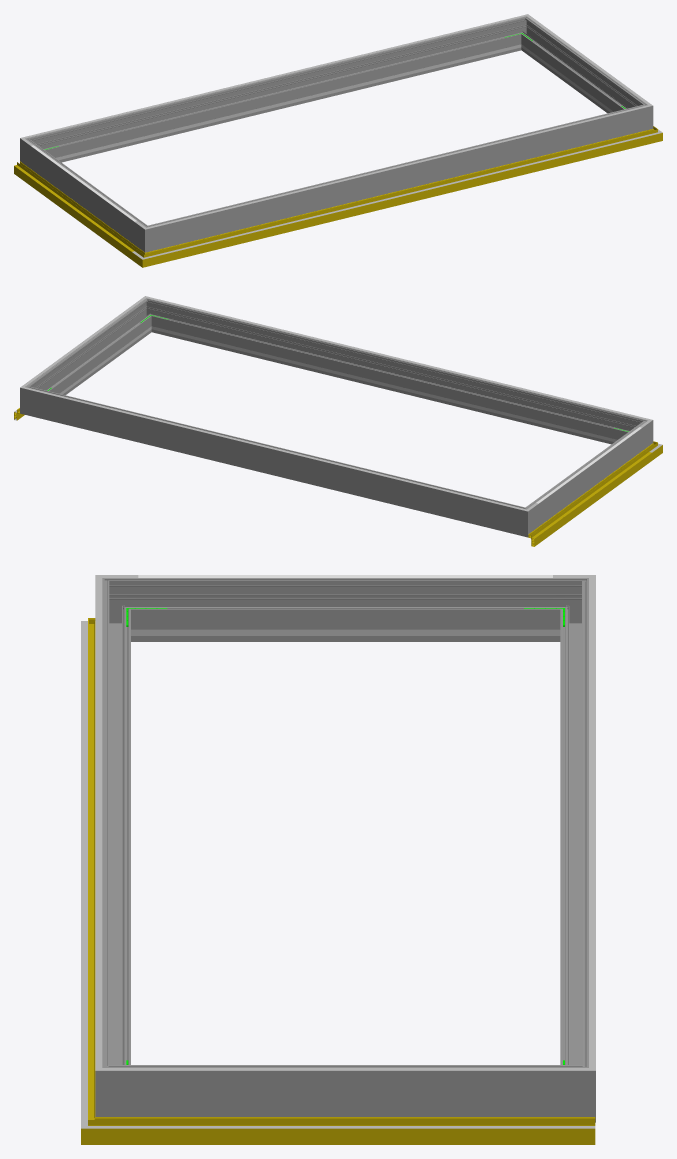
3 views of the same model, one above another, from view 1: azimuth 30°, elevation 25°; view 2: azimuth 150°, elevation 25°; view 3: azimuth 270°, elevation 25° (orthographic). The views are drawn at different scales.
Visible parts, largest first — view 1: 3DGeom-278, 3DGeom-300, 3DGeom-90, 3DGeom-299, 3DGeom-270, 3DGeom-85, 3DGeom-246, 3DGeom-100, 3DGeom-318, 3DGeom-306, 3DGeom-272, 3DGeom-292 (+4 smaller); view 2: 3DGeom-300, 3DGeom-278, 3DGeom-299, 3DGeom-270, 3DGeom-85, 3DGeom-241, 3DGeom-318, 3DGeom-306, 3DGeom-280, 3DGeom-286, 3DGeom-292, 3DGeom-105 (+1 smaller); view 3: 3DGeom-270, 3DGeom-299, 3DGeom-300, 3DGeom-278, 3DGeom-97, 3DGeom-90, 3DGeom-318, 3DGeom-100, 3DGeom-306, 3DGeom-234, 3DGeom-292, 3DGeom-286 (+6 smaller).
Boxes of the visible parts, bbox=[...] form: 3DGeom-278: bbox=[40, 20, 518, 162]; 3DGeom-300: bbox=[160, 108, 634, 247]; 3DGeom-90: bbox=[157, 132, 644, 263]; 3DGeom-299: bbox=[523, 22, 639, 113]; 3DGeom-270: bbox=[30, 144, 139, 244]; 3DGeom-85: bbox=[14, 161, 137, 259]; 3DGeom-246: bbox=[62, 48, 503, 159]; 3DGeom-100: bbox=[160, 136, 643, 254]; 3DGeom-318: bbox=[162, 109, 633, 224]; 3DGeom-306: bbox=[39, 18, 510, 134]; 3DGeom-272: bbox=[134, 220, 163, 252]; 3DGeom-292: bbox=[631, 98, 653, 132]; 3DGeom-300: bbox=[155, 302, 632, 444]; 3DGeom-278: bbox=[38, 389, 512, 532]; 3DGeom-299: bbox=[33, 304, 149, 395]; 3DGeom-270: bbox=[533, 426, 642, 526]; 3DGeom-85: bbox=[528, 448, 652, 546]; 3DGeom-241: bbox=[169, 330, 610, 441]; 3DGeom-318: bbox=[162, 300, 633, 416]; 3DGeom-306: bbox=[39, 391, 510, 506]; 3DGeom-280: bbox=[509, 502, 538, 537]; 3DGeom-286: bbox=[20, 380, 41, 417]; 3DGeom-292: bbox=[137, 298, 161, 333]; 3DGeom-105: bbox=[531, 452, 651, 538]; 3DGeom-270: bbox=[138, 578, 552, 641]; 3DGeom-299: bbox=[138, 1065, 552, 1116]; 3DGeom-300: bbox=[102, 593, 130, 1064]; 3DGeom-278: bbox=[560, 593, 588, 1064]; 3DGeom-97: bbox=[124, 1117, 595, 1144]; 3DGeom-90: bbox=[88, 633, 95, 1110]; 3DGeom-318: bbox=[95, 593, 102, 1052]; 3DGeom-100: bbox=[81, 639, 87, 1110]; 3DGeom-306: bbox=[589, 593, 595, 1052]; 3DGeom-234: bbox=[172, 629, 518, 635]; 3DGeom-292: bbox=[95, 1052, 138, 1116]; 3DGeom-286: bbox=[553, 1052, 595, 1122].
Size of the model in its own units: 4.27 by 0.2667 by 1.83.
